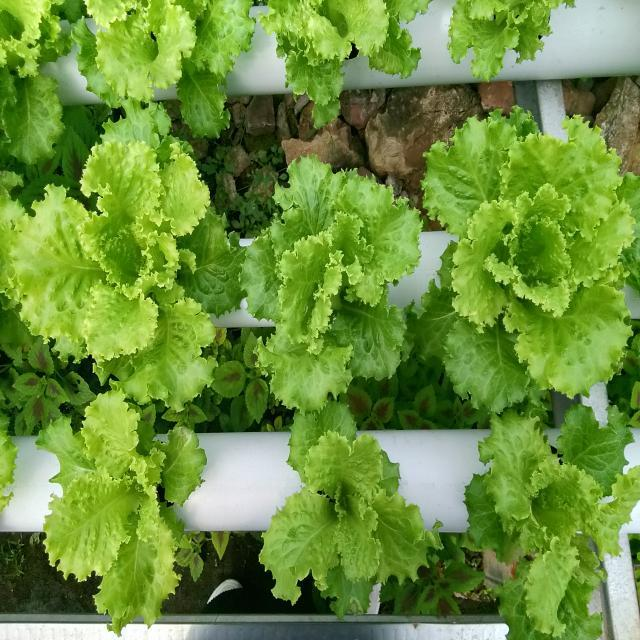Baby: (0, 136, 234, 410), (239, 156, 421, 414), (35, 389, 205, 634), (465, 404, 640, 640), (259, 401, 439, 619)
Mature: (424, 106, 636, 409)
